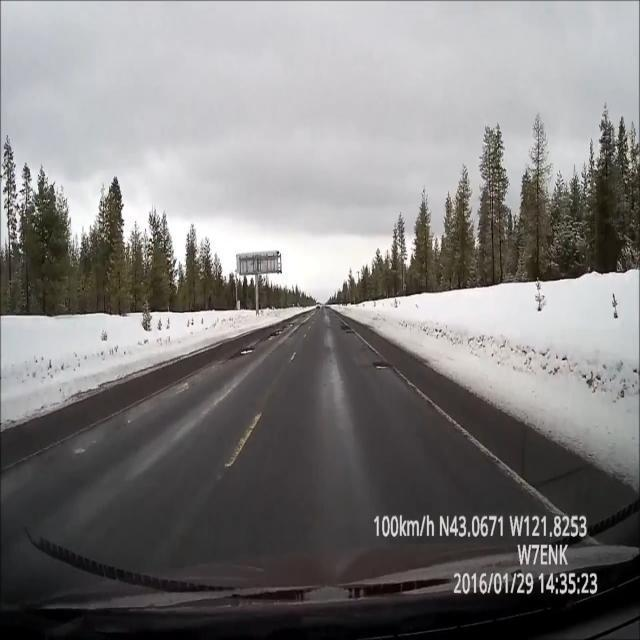pothole: (334, 307, 360, 344), (231, 346, 255, 362), (375, 360, 394, 373)
